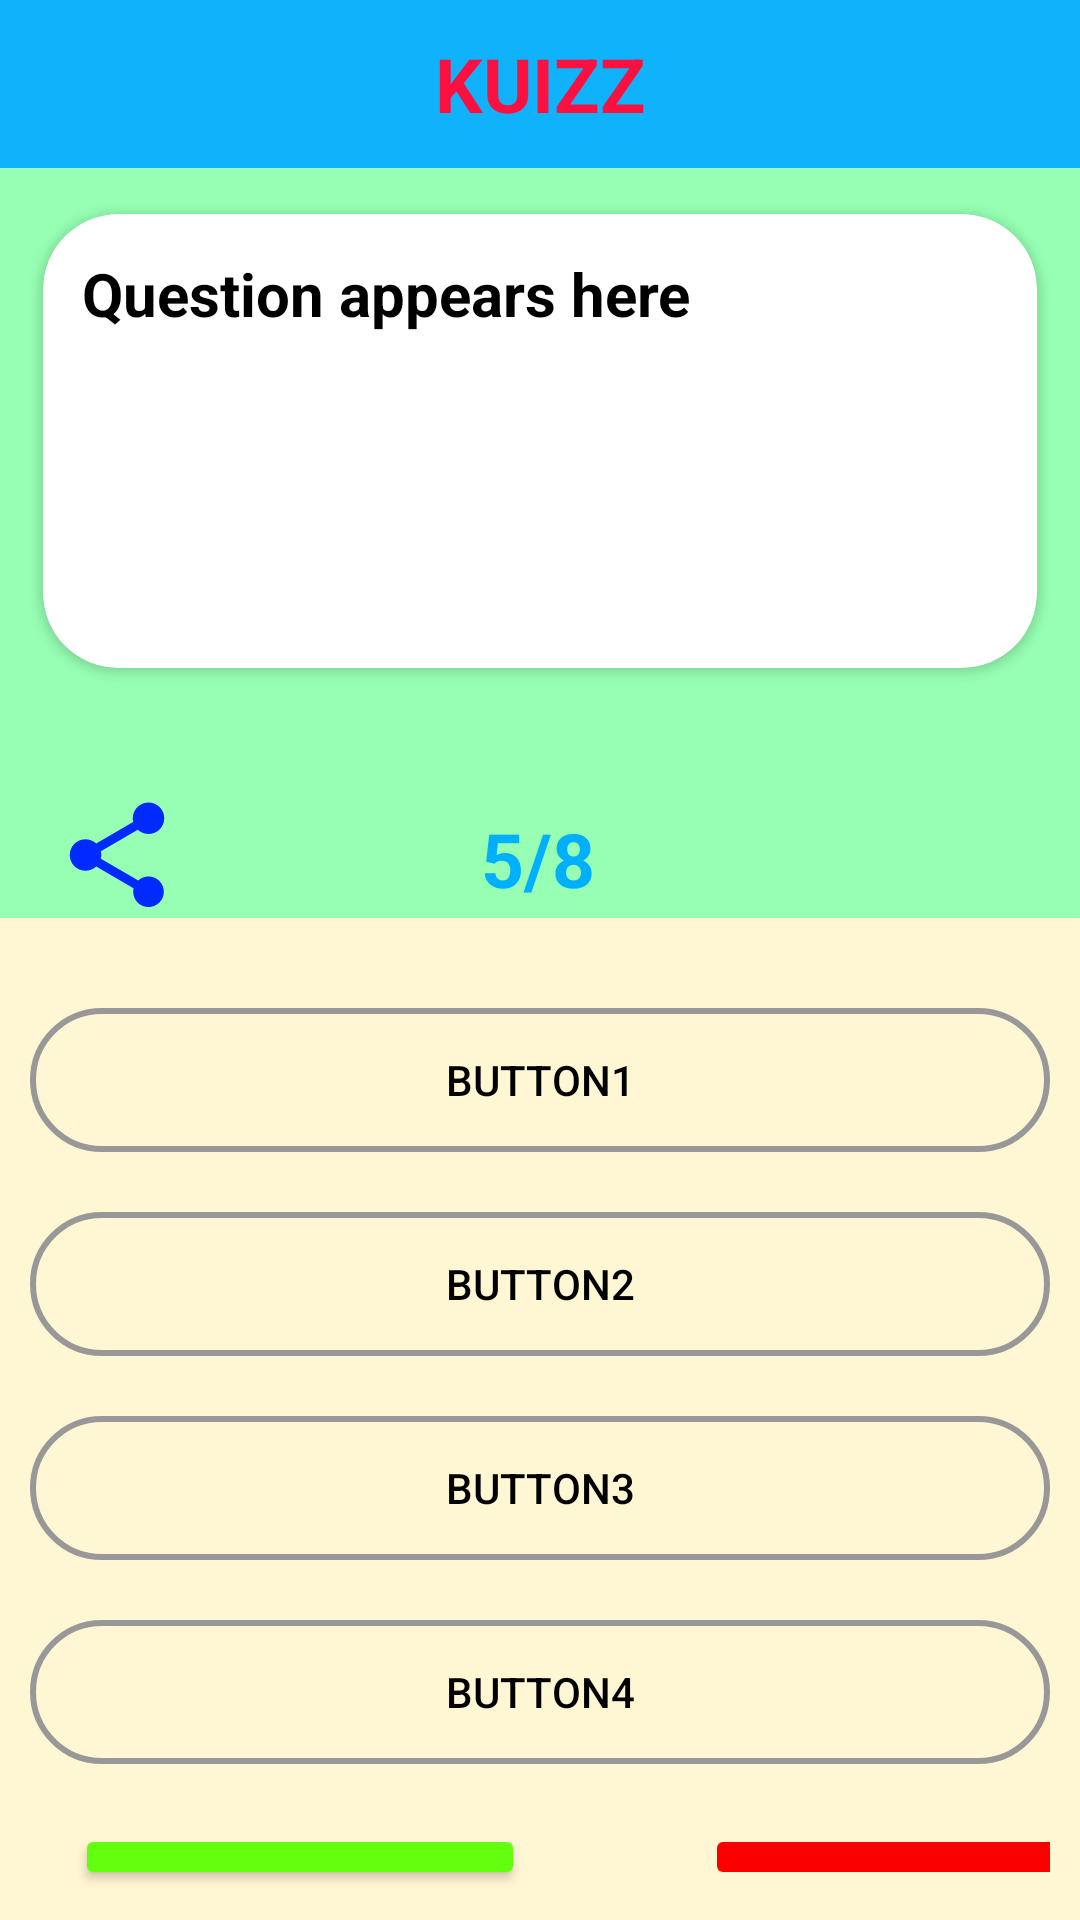

Screen size 1080px×1920px. Icon name, then its center in pixels as (x,y):
share: (117,854)
